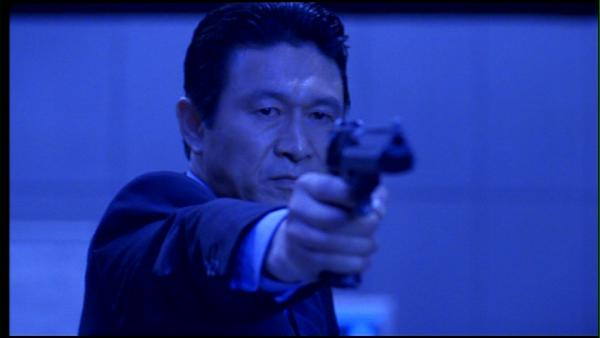Gun: (326, 115, 418, 187)
